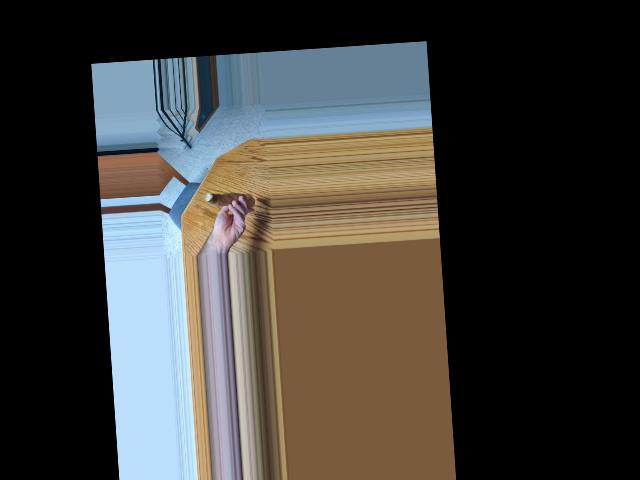sweet_potato: (200, 190, 255, 209)
